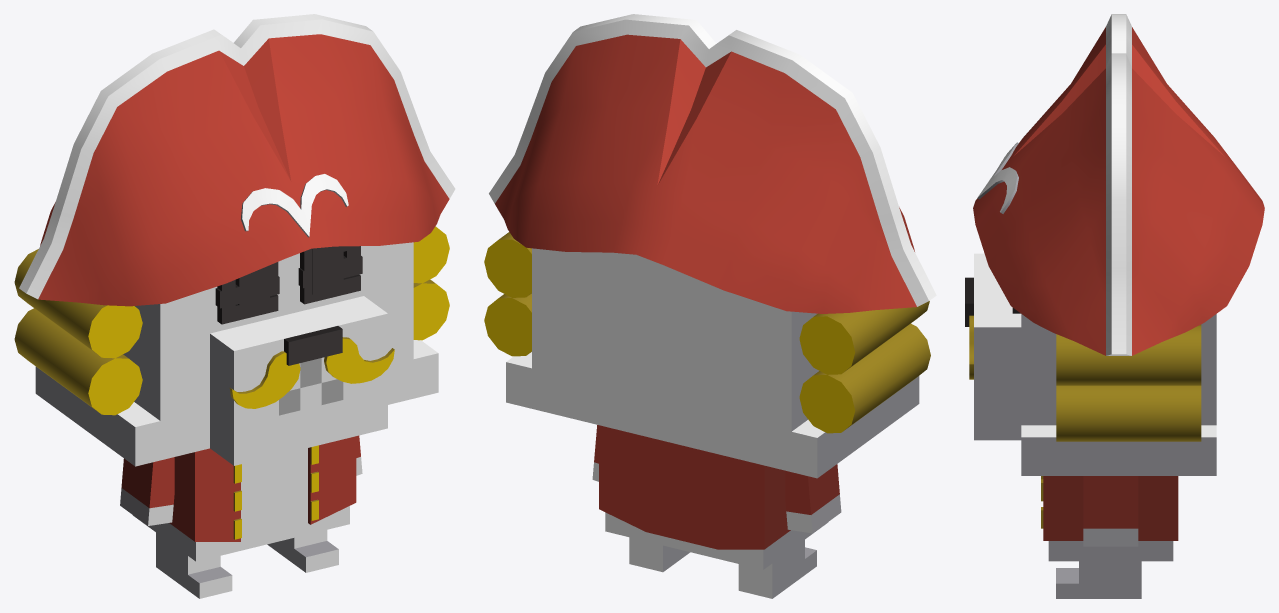
3 renders of one model, left to right at view 1: azimuth 30°, elevation 25°; view 2: azimuth 150°, elevation 25°; view 3: azimuth 270°, elevation 25°, orthographic. The views are drawn at different scales.
Visible parts, largest first — view 1: Ch_05, Ch_05_Wing_L, Ch_05_Leg_L, Ch_05_Leg_R, Ch_05_Eye_03_R, Ch_05_Eye_03_L; view 2: Ch_05, Ch_05_Wing_L, Ch_05_Leg_L, Ch_05_Leg_R; view 3: Ch_05, Ch_05_Wing_R, Ch_05_Leg_R.
Boxes of the visible parts, bbox=[...] form: Ch_05: bbox=[14, 14, 455, 561]; Ch_05_Wing_L: bbox=[120, 457, 174, 525]; Ch_05_Leg_L: bbox=[156, 532, 232, 598]; Ch_05_Leg_R: bbox=[267, 530, 338, 572]; Ch_05_Eye_03_R: bbox=[300, 246, 360, 304]; Ch_05_Eye_03_L: bbox=[217, 262, 278, 324]; Ch_05: bbox=[484, 14, 936, 569]; Ch_05_Wing_L: bbox=[785, 464, 841, 533]; Ch_05_Leg_L: bbox=[738, 540, 816, 598]; Ch_05_Leg_R: bbox=[629, 537, 690, 572]; Ch_05: bbox=[965, 14, 1264, 561]; Ch_05_Wing_R: bbox=[1083, 476, 1138, 546]; Ch_05_Leg_R: bbox=[1056, 561, 1141, 598].
Size of the model in its own units: 12.69 by 15.01 by 7.82.
